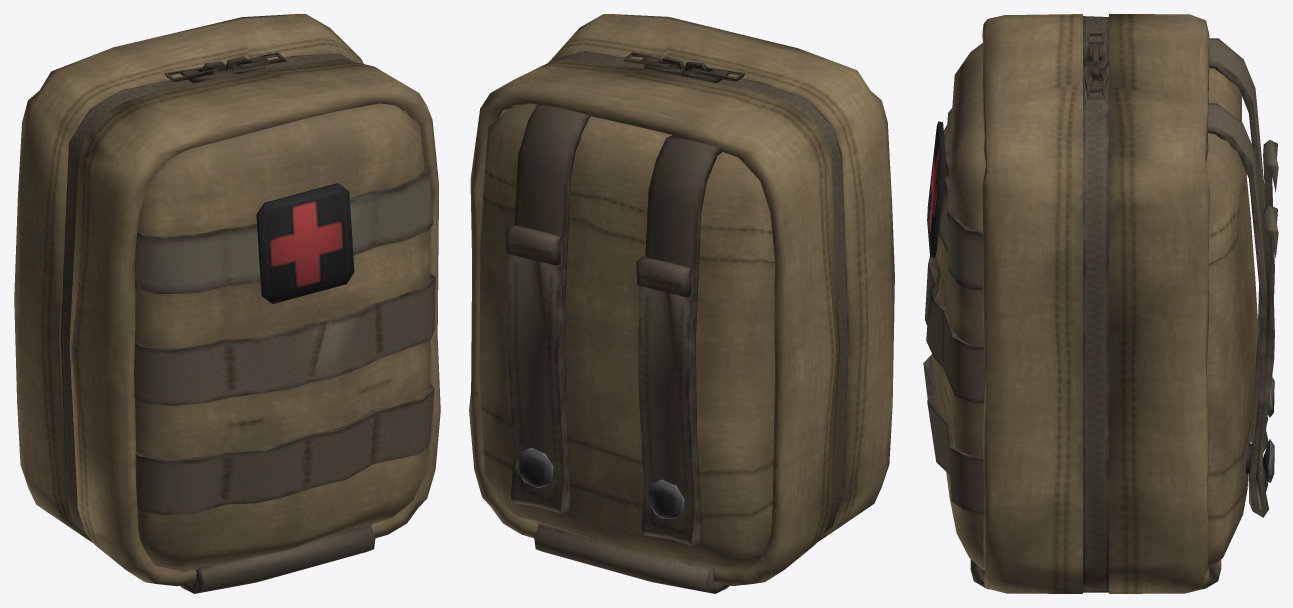
The picture shows the model from 3 angles, left to right: view 1: azimuth 30°, elevation 25°; view 2: azimuth 150°, elevation 25°; view 3: azimuth 270°, elevation 25°; orthographic projection. The views are drawn at different scales.
Parts seen in each view (by area): view 1: AIDKIT_OLIVE; view 2: AIDKIT_OLIVE; view 3: AIDKIT_OLIVE.
Boxes of the visible parts, x1=… form: AIDKIT_OLIVE: x1=14, y1=14, x2=440, y2=593; AIDKIT_OLIVE: x1=469, y1=14, x2=894, y2=593; AIDKIT_OLIVE: x1=923, y1=14, x2=1278, y2=593.
Size of the model in its own units: 2.48 by 3.45 by 2.25.
Materials: 1 (1 with a texture image).
